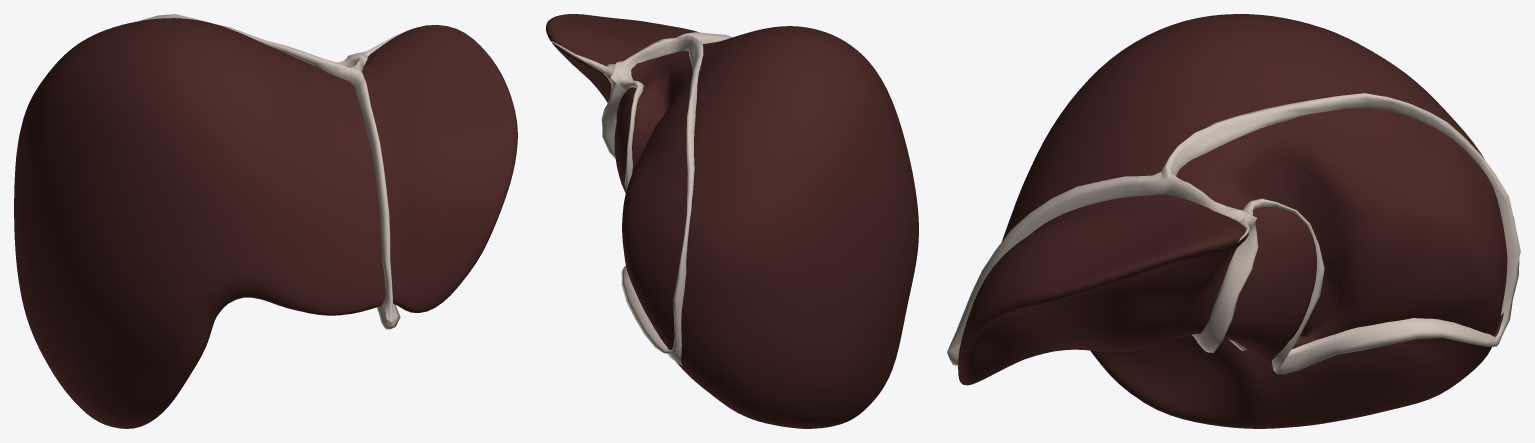
Rendered from VH_M_Liver.fbx.
The picture shows the model from 3 angles, left to right: view 1: azimuth 30°, elevation 25°; view 2: azimuth 150°, elevation 25°; view 3: azimuth 270°, elevation 25°; orthographic projection. The views are drawn at different scales.
Visible parts, largest first — view 1: VH_M_liver_capsule, VH_M_falciform_ligament, VH_M_coronary_ligament_of_liver; view 2: VH_M_liver_capsule, VH_M_bare_area_of_liver, VH_M_coronary_ligament_of_liver, VH_M_caudate_lobe_of_liver, VH_M_ligamentum_venosum, VH_M_right_posterosuperior_segment, VH_M_triangular_ligament_of_liver; view 3: VH_M_liver_capsule, VH_M_bare_area_of_liver, VH_M_coronary_ligament_of_liver, VH_M_caudate_lobe_of_liver, VH_M_falciform_ligament, VH_M_ligamentum_venosum, VH_M_right_posterosuperior_segment, VH_M_diaphragmatic_surface.
Boxes of the visible parts, x1,y1,x2,y2 form: VH_M_liver_capsule: [14, 18, 517, 428]; VH_M_falciform_ligament: [349, 70, 393, 321]; VH_M_coronary_ligament_of_liver: [140, 14, 367, 81]; VH_M_liver_capsule: [546, 14, 918, 428]; VH_M_bare_area_of_liver: [622, 50, 692, 347]; VH_M_coronary_ligament_of_liver: [610, 35, 703, 365]; VH_M_caudate_lobe_of_liver: [632, 55, 689, 125]; VH_M_ligamentum_venosum: [601, 78, 626, 158]; VH_M_right_posterosuperior_segment: [624, 118, 687, 312]; VH_M_triangular_ligament_of_liver: [551, 41, 615, 82]; VH_M_liver_capsule: [958, 14, 1503, 428]; VH_M_bare_area_of_liver: [1176, 107, 1507, 344]; VH_M_coronary_ligament_of_liver: [1161, 93, 1520, 374]; VH_M_caudate_lobe_of_liver: [1192, 148, 1341, 348]; VH_M_falciform_ligament: [947, 172, 1165, 351]; VH_M_ligamentum_venosum: [1192, 219, 1258, 352]; VH_M_right_posterosuperior_segment: [1338, 109, 1500, 308]; VH_M_diaphragmatic_surface: [1226, 166, 1496, 346].
Bounding box in the file's own units: 19.14 × 17.46 × 20.18.
